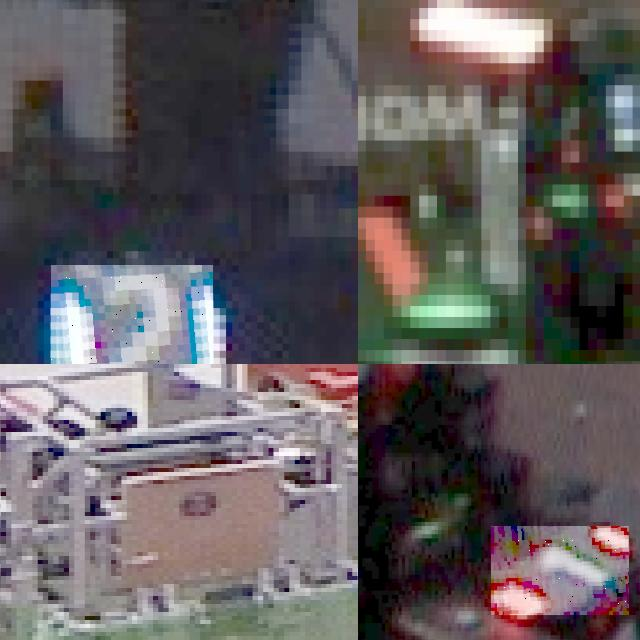B2: (50, 265, 213, 364)
R1: (491, 526, 629, 615)
